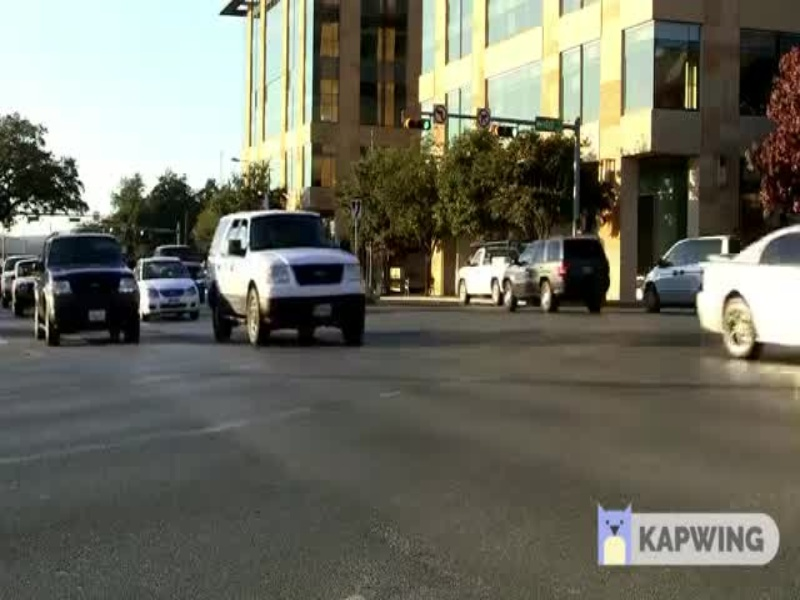car: (135, 251, 205, 329)
suv: (205, 204, 369, 348), (38, 229, 139, 353), (501, 229, 614, 318)
